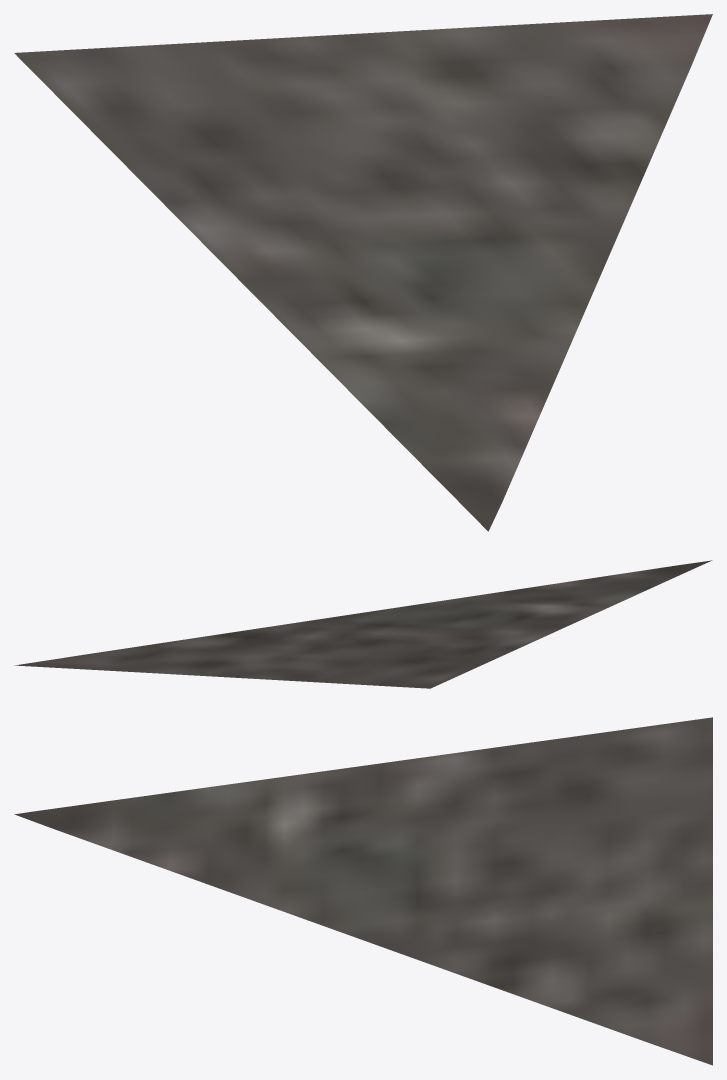
3 renders of one model, top to bottom at view 1: azimuth 30°, elevation 25°; view 2: azimuth 150°, elevation 25°; view 3: azimuth 270°, elevation 25°, orthographic. The views are drawn at different scales.
Size of the model in its own units: 0.1988 by 0.0358 by 0.2337.
Materials: 1 (1 with a texture image).
